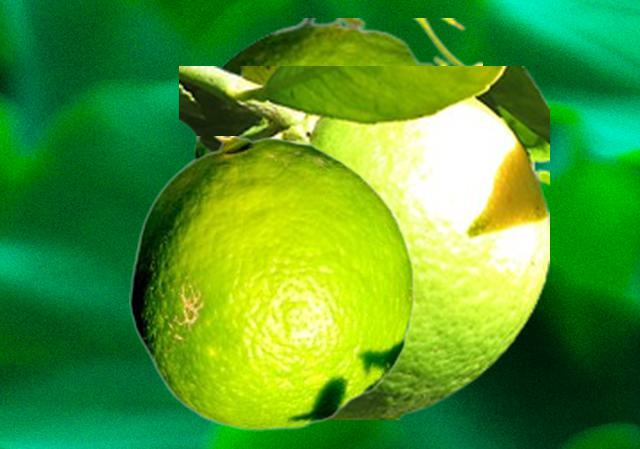dalandan: (179, 66, 548, 418), (129, 136, 414, 430), (192, 18, 481, 157)
